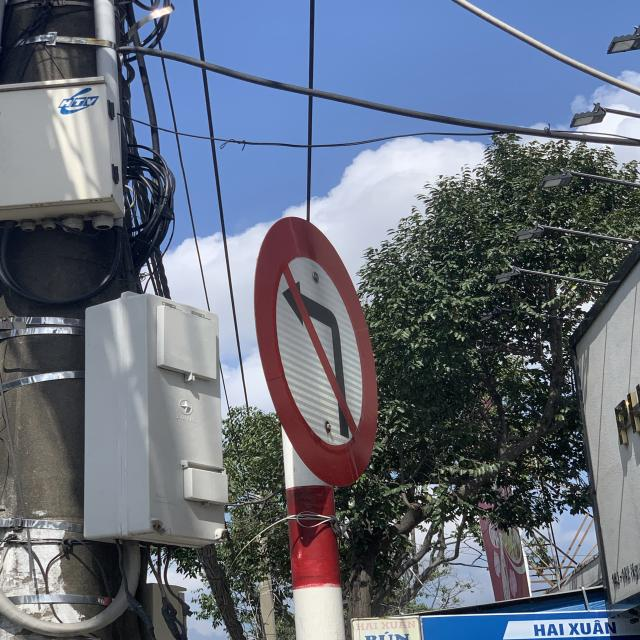Cam_Re_Trai: (253, 216, 376, 489)
